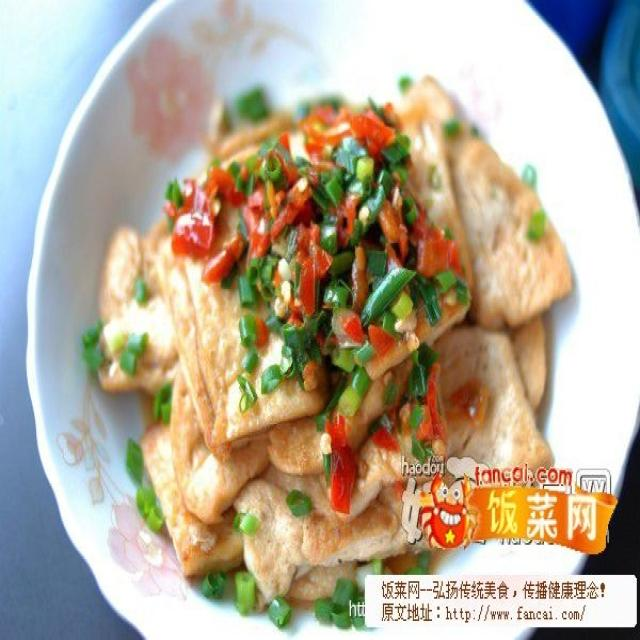豆腐料理: (26, 24, 620, 626)
